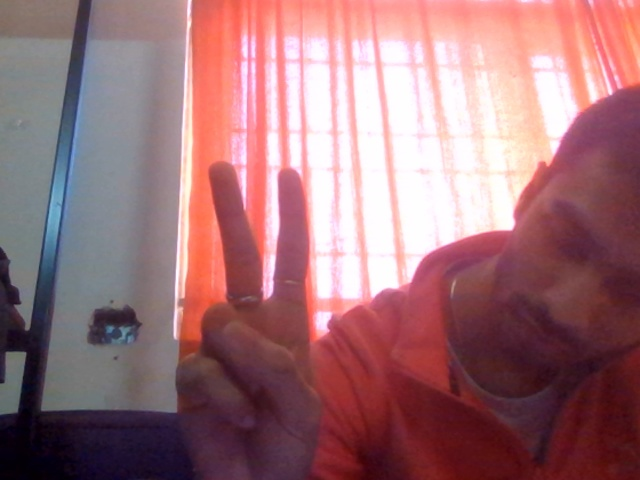V: (129, 140, 439, 480)
